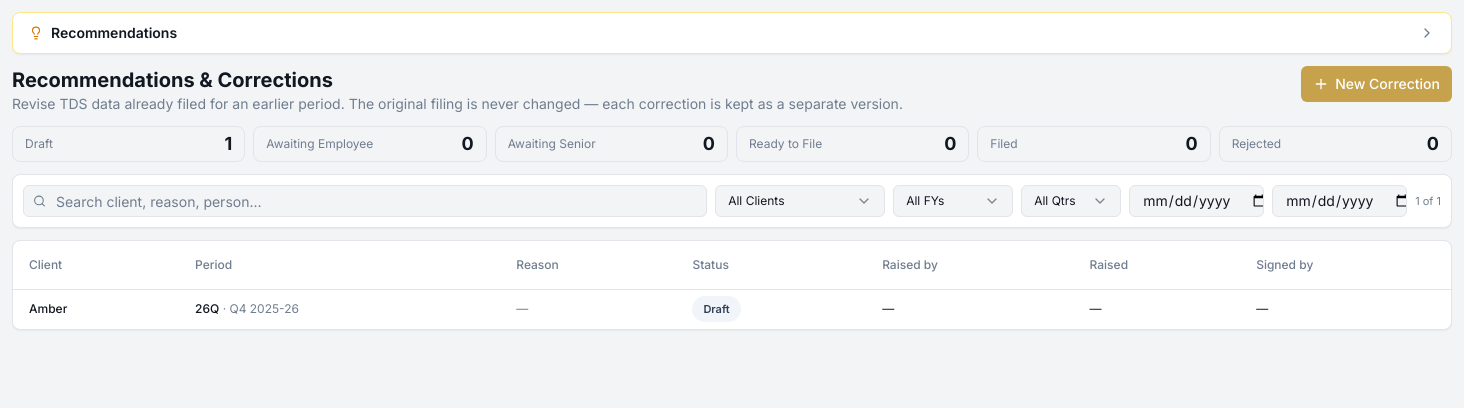
Scenario: a hand-reverted row › renders as ONE unchanged entry, with no Original comparison row
Click the row titled "Open correction".
click(732, 309)  # box x1=13 y1=289 x2=1451 y2=329
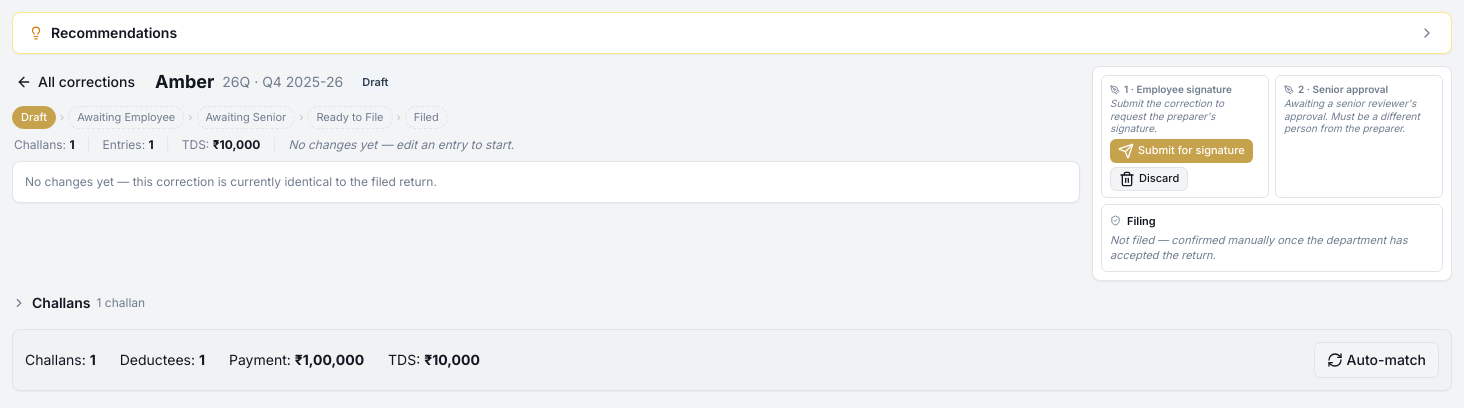
Expected: the text "original" is gone
Expected: the text "No changes yet" is shown, x1=288 y1=136 x2=514 y2=152
